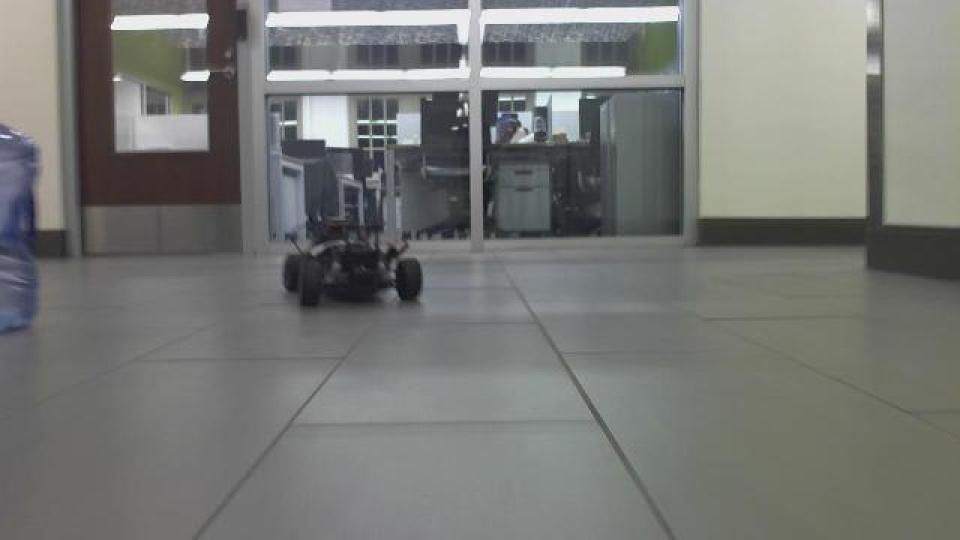car: (276, 146, 426, 310)
